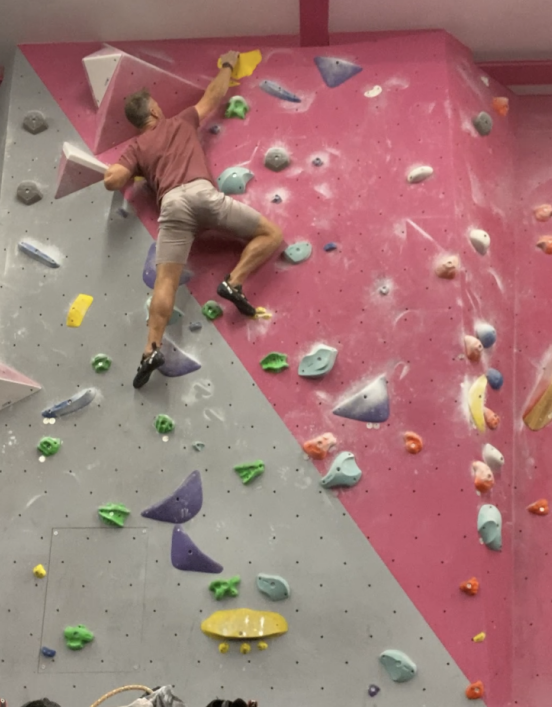hold: (139, 468, 209, 527), (328, 368, 397, 427), (198, 602, 295, 643), (164, 522, 225, 583), (39, 382, 101, 422), (316, 448, 365, 495), (292, 341, 345, 383), (471, 499, 509, 557), (14, 235, 65, 273), (311, 52, 363, 89), (256, 74, 309, 110), (212, 49, 268, 82), (378, 645, 420, 687), (465, 371, 492, 435), (212, 163, 256, 197), (90, 497, 134, 529), (60, 618, 99, 653), (254, 569, 293, 604), (206, 570, 246, 604), (64, 291, 97, 332), (301, 429, 342, 461), (478, 439, 510, 478), (467, 455, 495, 494), (231, 458, 267, 488), (279, 235, 315, 265), (431, 252, 462, 283), (150, 408, 180, 439), (400, 427, 430, 458), (460, 327, 485, 364), (402, 162, 437, 188), (467, 223, 495, 255), (258, 349, 290, 376), (476, 403, 504, 433), (474, 319, 498, 352), (523, 494, 551, 522), (34, 434, 66, 458), (456, 574, 483, 602), (489, 91, 514, 117), (482, 366, 505, 394), (199, 297, 224, 322), (462, 678, 486, 702), (359, 82, 384, 100), (254, 303, 275, 324), (30, 559, 50, 580), (37, 642, 58, 661), (188, 436, 209, 455), (364, 682, 384, 700), (267, 188, 285, 207), (238, 638, 255, 658), (375, 280, 395, 297), (214, 640, 232, 658), (469, 629, 486, 647), (321, 240, 340, 256), (184, 319, 203, 335), (310, 152, 325, 169), (477, 73, 491, 91), (256, 638, 268, 655)
